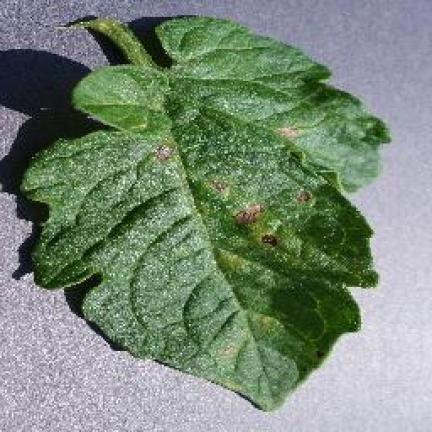disease: (19, 18, 393, 411)
leaf: (155, 143, 172, 160)
